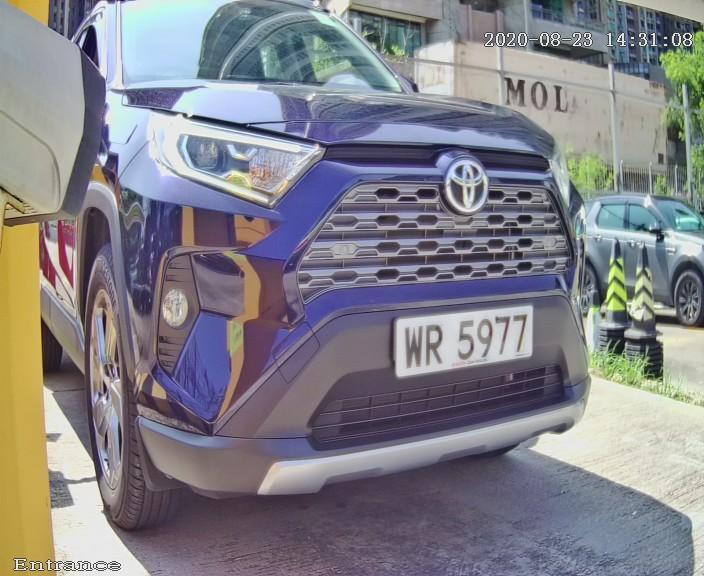Car: (16, 6, 651, 564)
License Plate: (357, 270, 570, 405)
